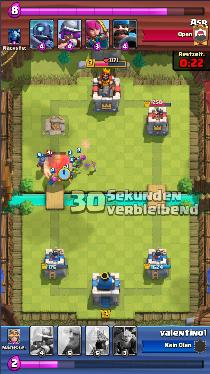ally_archer: (77, 153, 86, 164), (48, 177, 57, 187)
ally_musketeer: (37, 156, 47, 172)
ally_spear_goblin: (64, 168, 73, 178), (68, 154, 76, 163)
enemy_giant: (44, 152, 73, 177)
